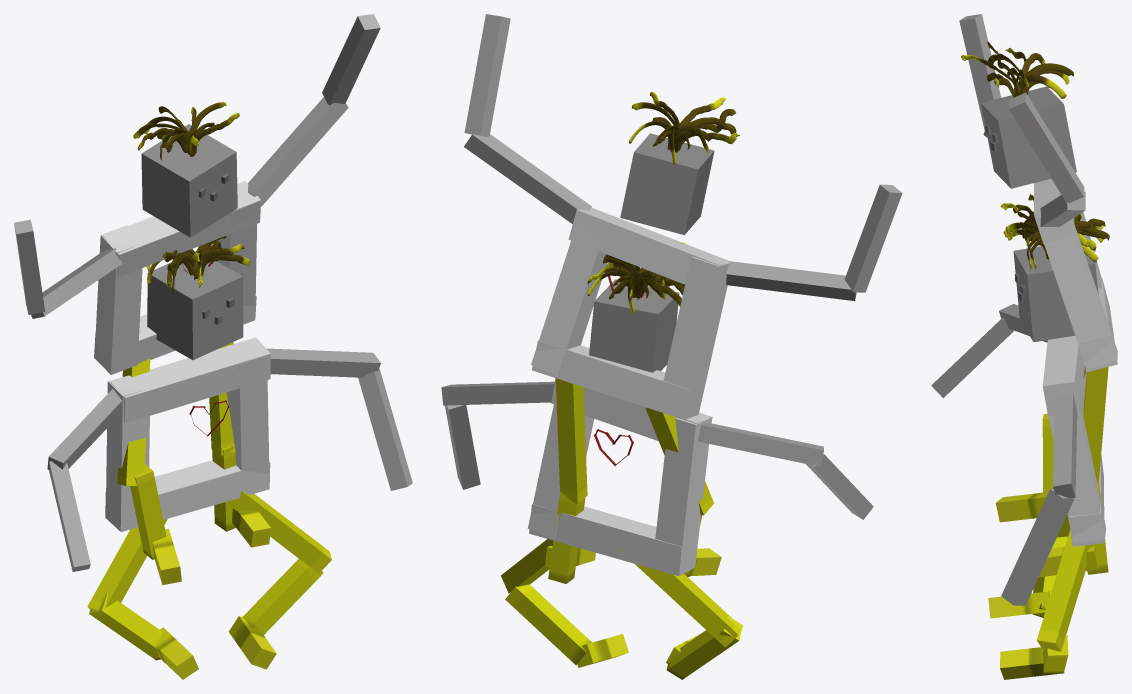
Rendered from Lover-jump.fbx.
3 renders of one model, left to right at view 1: azimuth 30°, elevation 25°; view 2: azimuth 150°, elevation 25°; view 3: azimuth 270°, elevation 25°, orthographic. The views are drawn at different scales.
Visible parts, largest first — view 1: Paint; view 2: Paint; view 3: Paint.
Boxes of the visible parts, x1,y1,x2,y2 form: Paint: [14, 14, 412, 679]; Paint: [441, 14, 902, 679]; Paint: [931, 14, 1117, 679].
Bounding box in the file's own units: 6.97 × 9.85 × 2.61.
